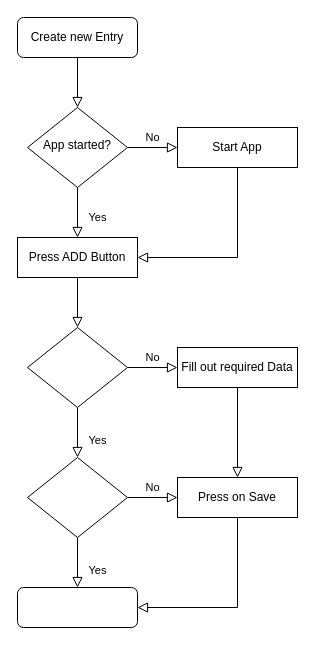
Image size: 315x645. Some labels were removed from this diagram. Each missing label, with the centre of its shape:
Entry Created: [77,607]
Filled out all the required Data?: [77,367]
Pressed on Save?: [77,497]
